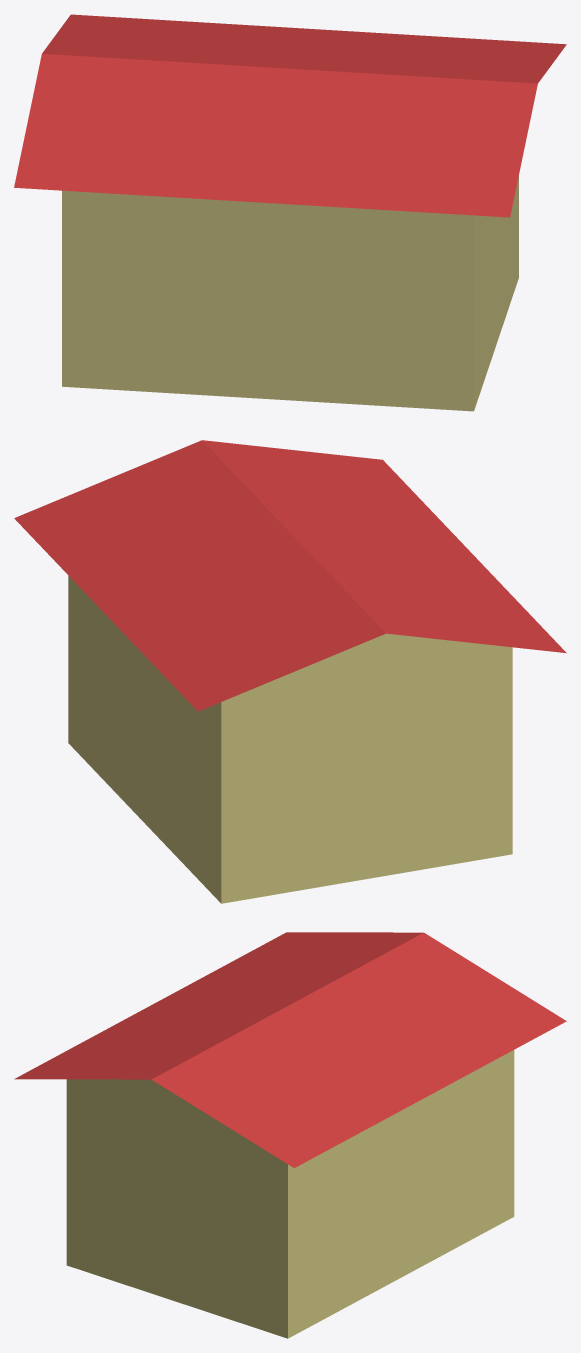
3 renders of one model, top to bottom at view 1: azimuth 30°, elevation 25°; view 2: azimuth 150°, elevation 25°; view 3: azimuth 270°, elevation 25°, orthographic. The views are drawn at different scales.
Bounding box in the file's own units: 15.13 × 14.74 × 6.88.
